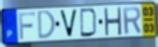D: (37, 10, 57, 41), (79, 8, 99, 38)
F: (18, 11, 37, 41)
H: (103, 7, 123, 36)
R: (121, 6, 143, 35)
V: (58, 8, 79, 39)
